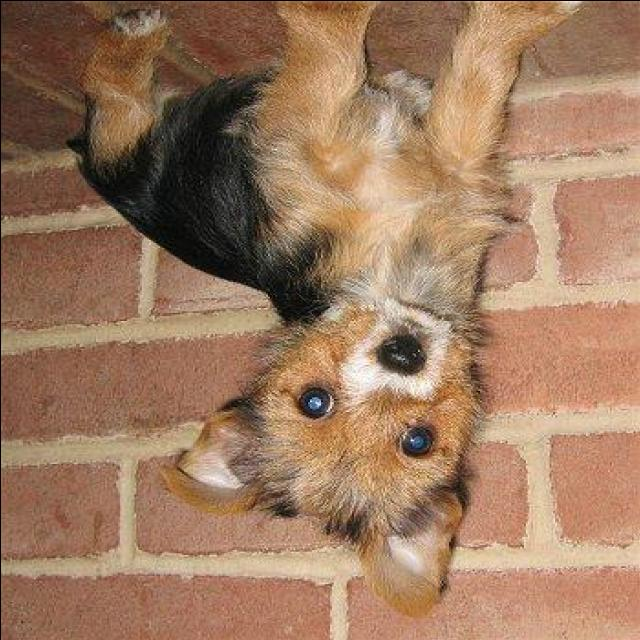toy_terrier: (64, 1, 584, 618)
